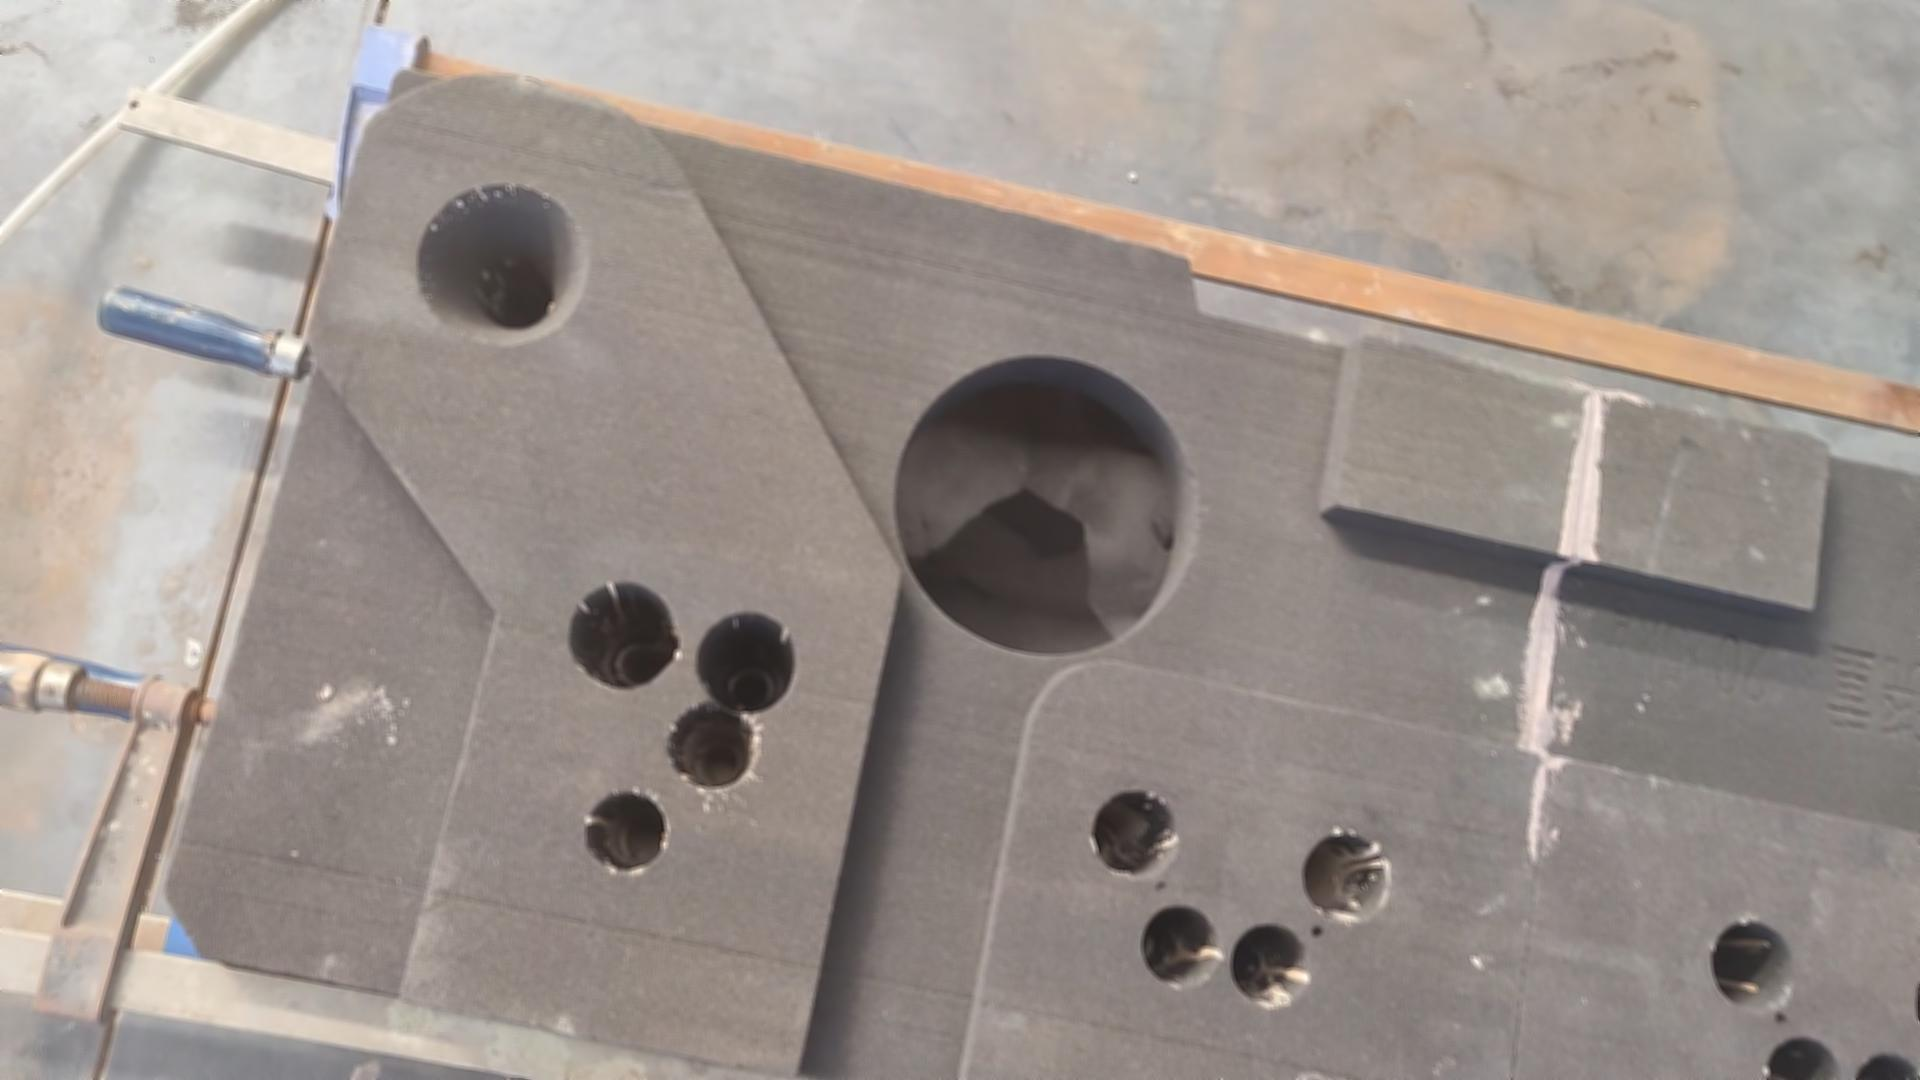pouring hole: (415, 182, 585, 345)
